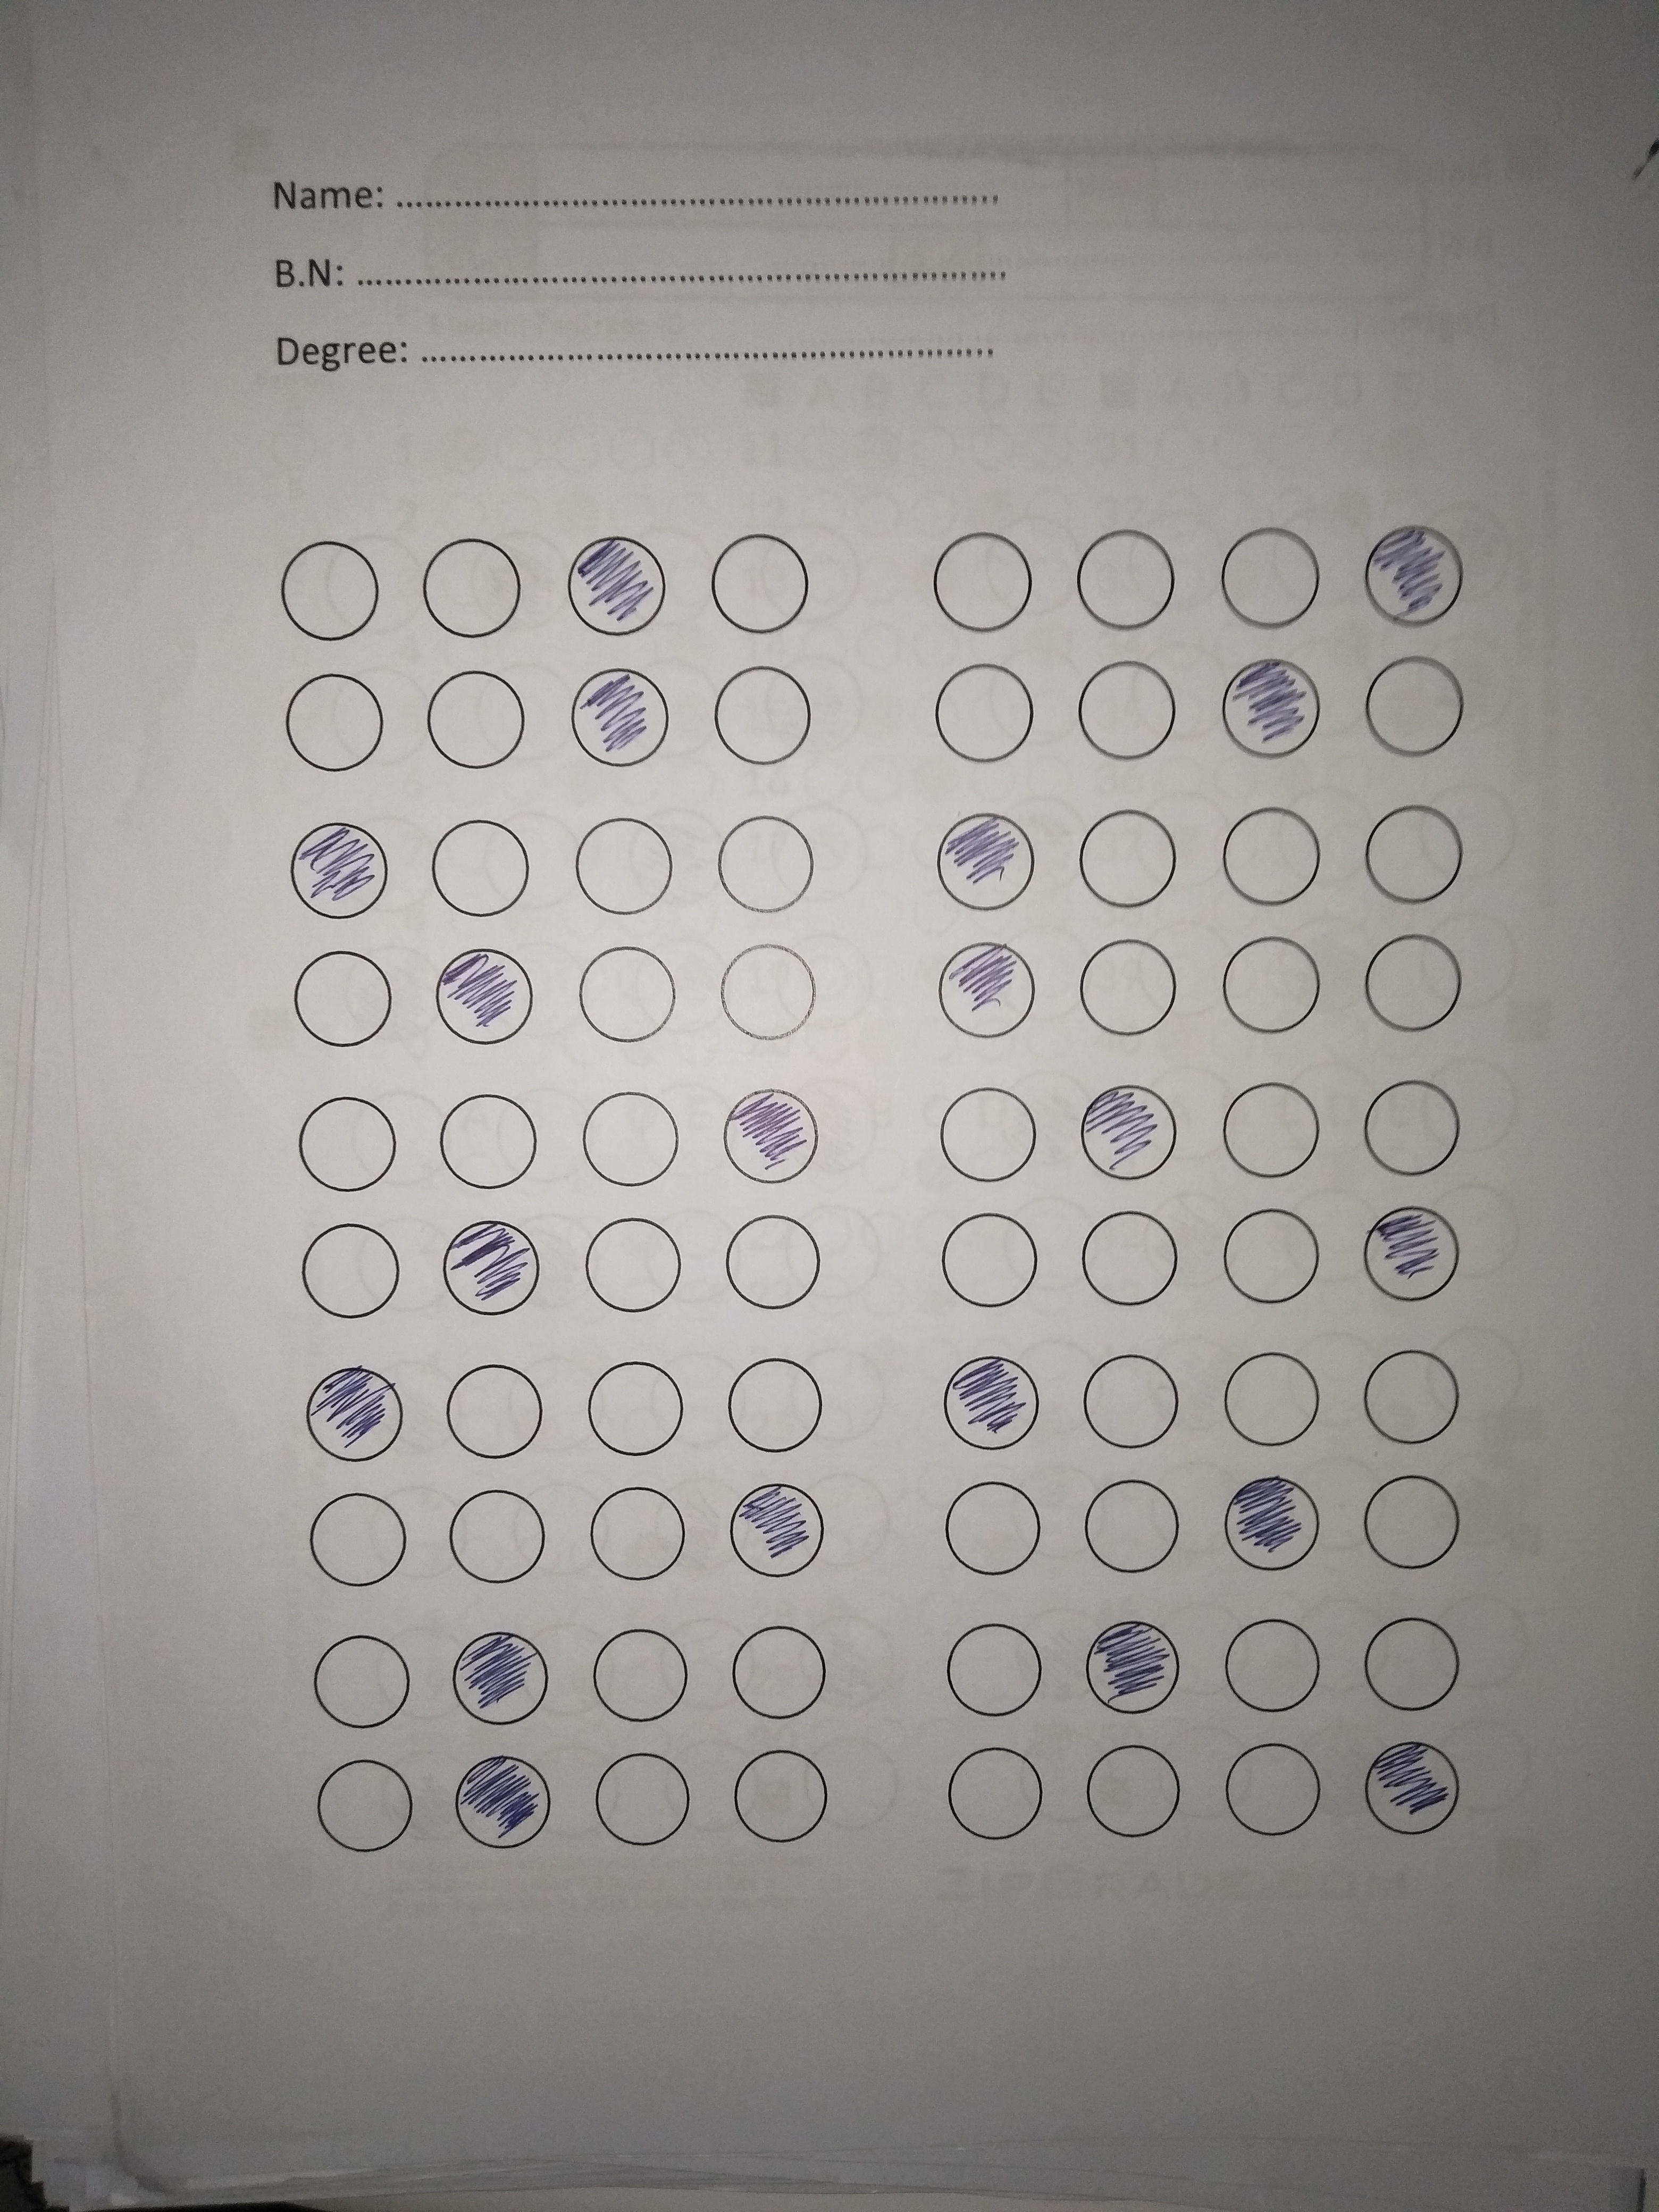not-c: (1213, 507, 1337, 646), (1194, 1606, 1338, 1724), (261, 524, 392, 653), (401, 523, 530, 653), (434, 1477, 572, 1599), (918, 1608, 1060, 1726), (408, 662, 542, 784), (565, 1083, 699, 1205), (270, 939, 411, 1052), (924, 517, 1049, 644), (1056, 925, 1185, 1049), (1072, 1733, 1204, 1853), (697, 935, 835, 1050), (275, 657, 397, 784), (1345, 648, 1473, 770), (572, 1350, 701, 1470), (1208, 1068, 1337, 1188), (1345, 1468, 1474, 1588), (1195, 928, 1335, 1038), (697, 517, 817, 644), (1215, 792, 1335, 920), (1070, 805, 1204, 918), (920, 657, 1046, 777), (1351, 1601, 1476, 1721), (706, 803, 833, 921), (423, 1085, 551, 1204), (411, 808, 540, 925), (1063, 512, 1188, 631), (1063, 1341, 1185, 1461), (1218, 1731, 1340, 1851), (708, 1341, 826, 1465), (572, 1615, 695, 1733), (1354, 1334, 1474, 1454), (1070, 650, 1188, 772), (563, 798, 680, 921), (1352, 928, 1478, 1043), (708, 1205, 826, 1325), (1063, 1205, 1194, 1313), (1213, 1336, 1330, 1456), (720, 1743, 847, 1853), (303, 1482, 415, 1606), (277, 1085, 403, 1195), (427, 1364, 556, 1470), (1361, 794, 1478, 911), (701, 664, 824, 773), (927, 1740, 1054, 1846), (310, 1749, 427, 1864), (582, 1480, 697, 1595), (936, 1202, 1049, 1317), (577, 1216, 697, 1324), (934, 1082, 1049, 1193), (929, 1477, 1054, 1578), (723, 1613, 836, 1724), (1213, 1204, 1328, 1313), (1077, 1475, 1192, 1585), (291, 1219, 408, 1327), (582, 1738, 695, 1848), (305, 1629, 418, 1738), (1363, 1078, 1473, 1188), (573, 939, 678, 1049)
taken-c: (563, 531, 669, 643), (1361, 521, 1466, 631), (566, 667, 673, 772), (432, 941, 537, 1047), (437, 1214, 544, 1318), (936, 806, 1039, 914), (1220, 657, 1324, 761), (288, 819, 394, 921), (943, 1348, 1046, 1453), (1359, 1200, 1462, 1305), (938, 941, 1042, 1043), (1077, 1076, 1178, 1183), (728, 1477, 829, 1581), (1223, 1472, 1324, 1576), (300, 1364, 406, 1463), (1359, 1740, 1469, 1836), (450, 1625, 552, 1726), (450, 1752, 556, 1850), (721, 1087, 824, 1184), (1086, 1615, 1183, 1716)
